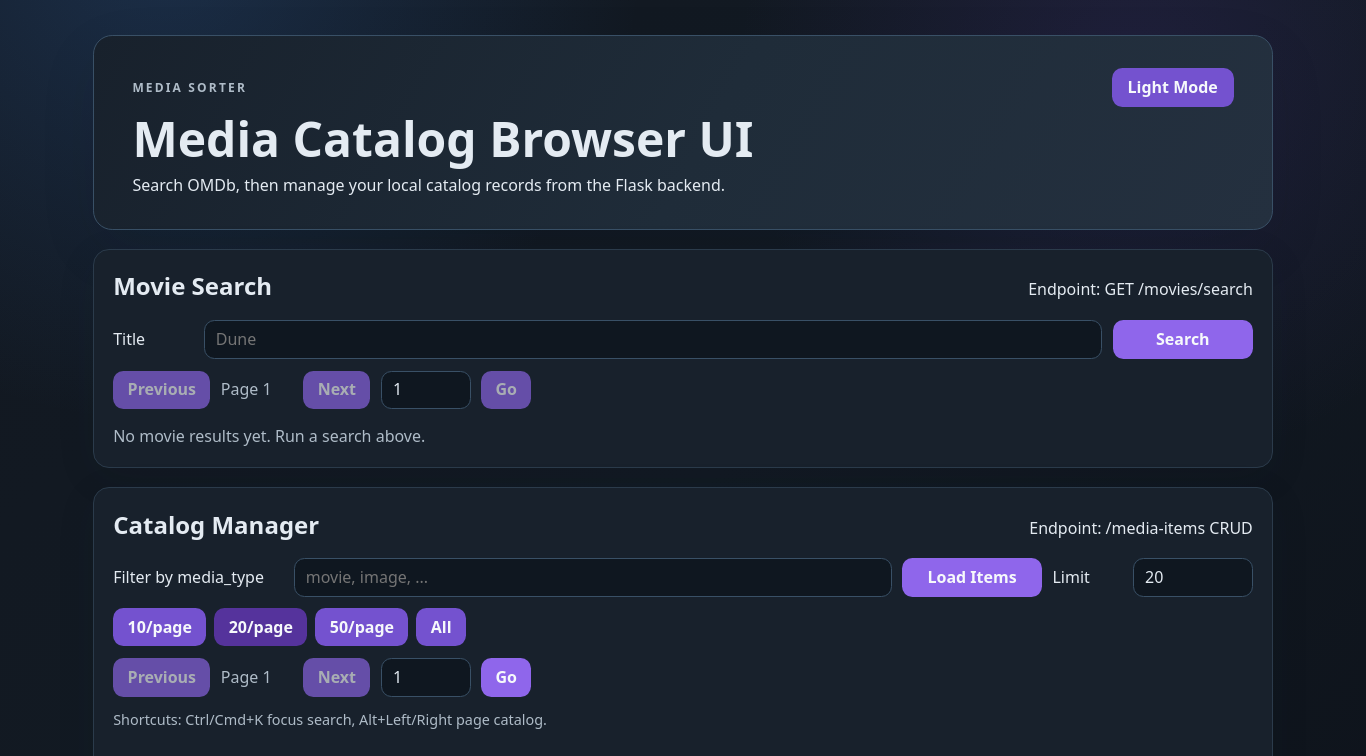
Test case: App › defaults to dark mode and toggles from the header
The width and height of the screenshot is (1366, 756).
Click the button "Light Mode" at (1173, 87), box [1112, 68, 1234, 107]
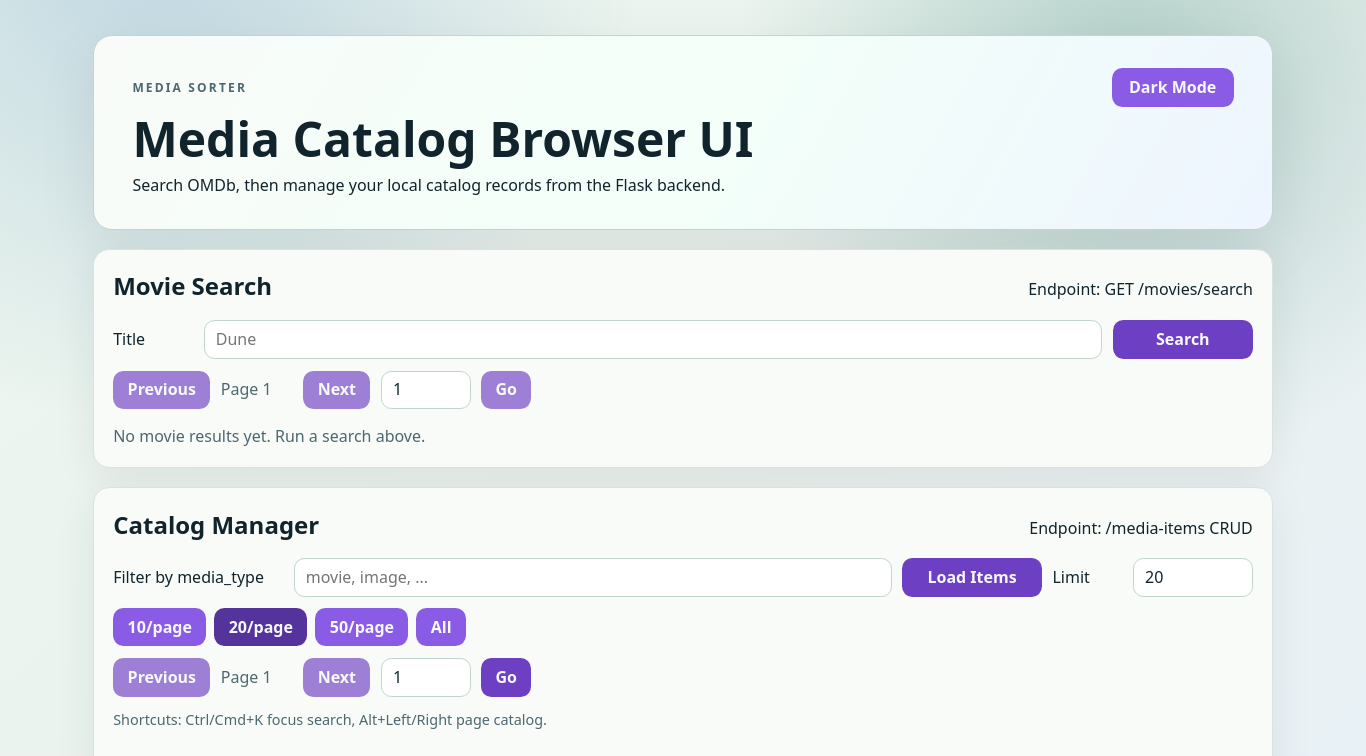
Expected: the button "Dark Mode" is shown, [1112, 68, 1234, 107]
